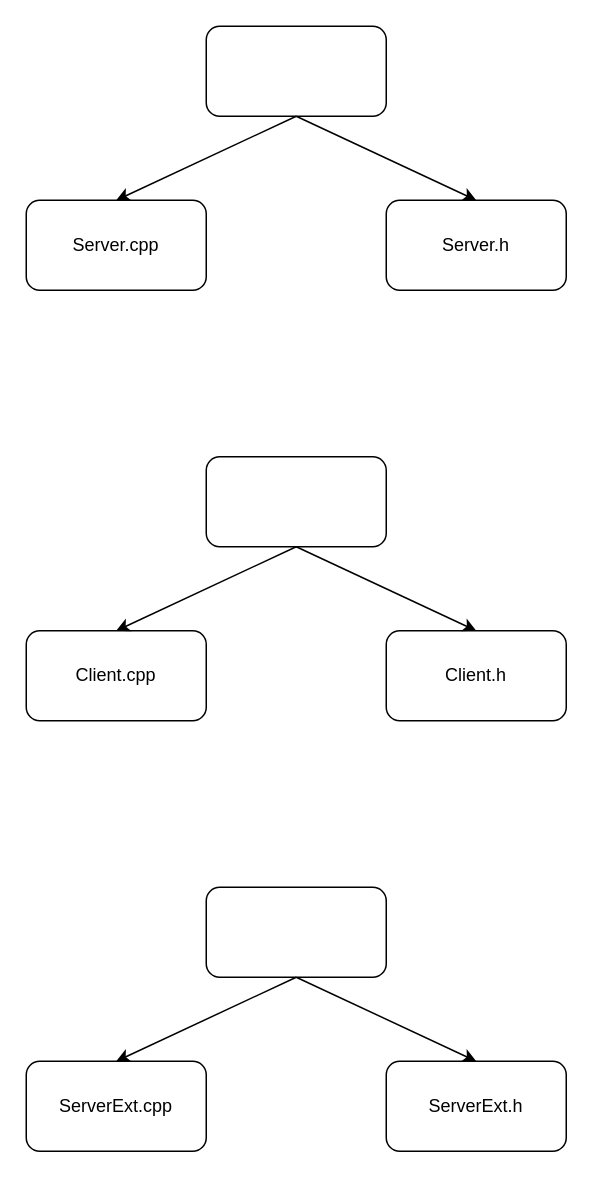
This 593x1178 diagram has some shape labels left out. The box of each missing label's shape, as (x1, y1, x2, y2) in pixels:
Client: (205, 455, 386, 547)
Server: (205, 25, 386, 116)
ServerExt: (205, 886, 386, 977)
